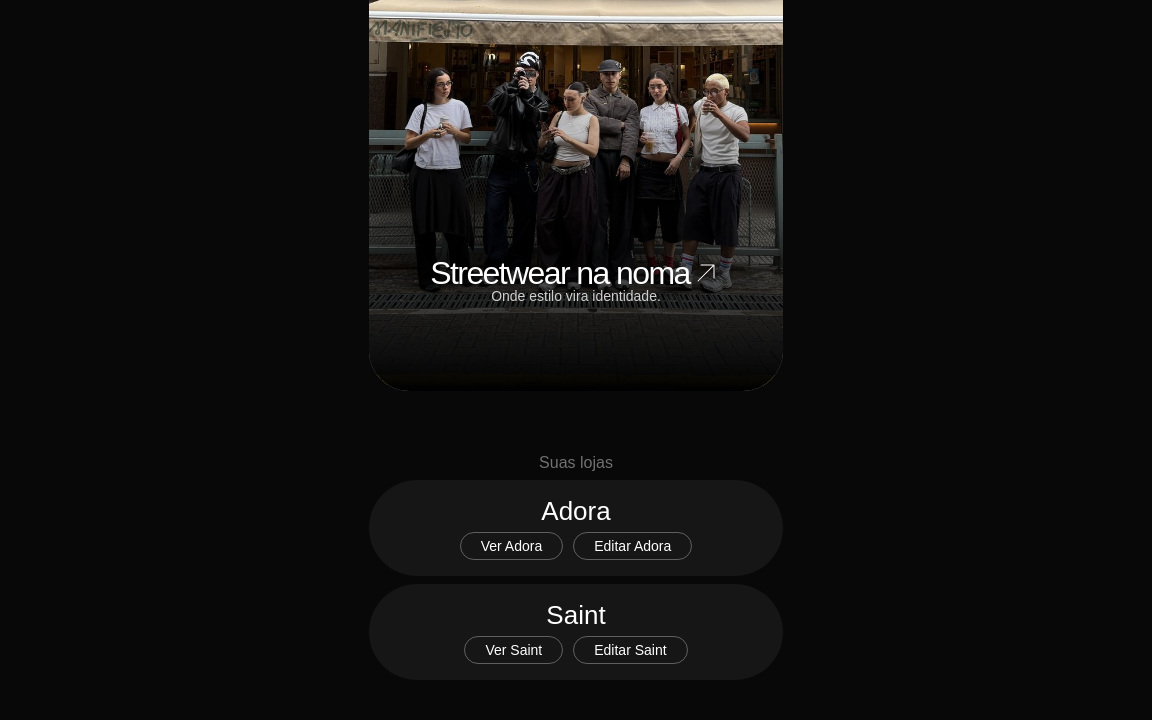
mostra os cards do usuário e abre a loja pelo slug
The image size is (1152, 720).
(page scrolled)
expect the number of headings with class "titulo-lojas-usuario" is 1: met, box [539,454,613,471]
Click the link "Ver Adora" at (511, 546), box [460,532,563,560]
(page scrolled)
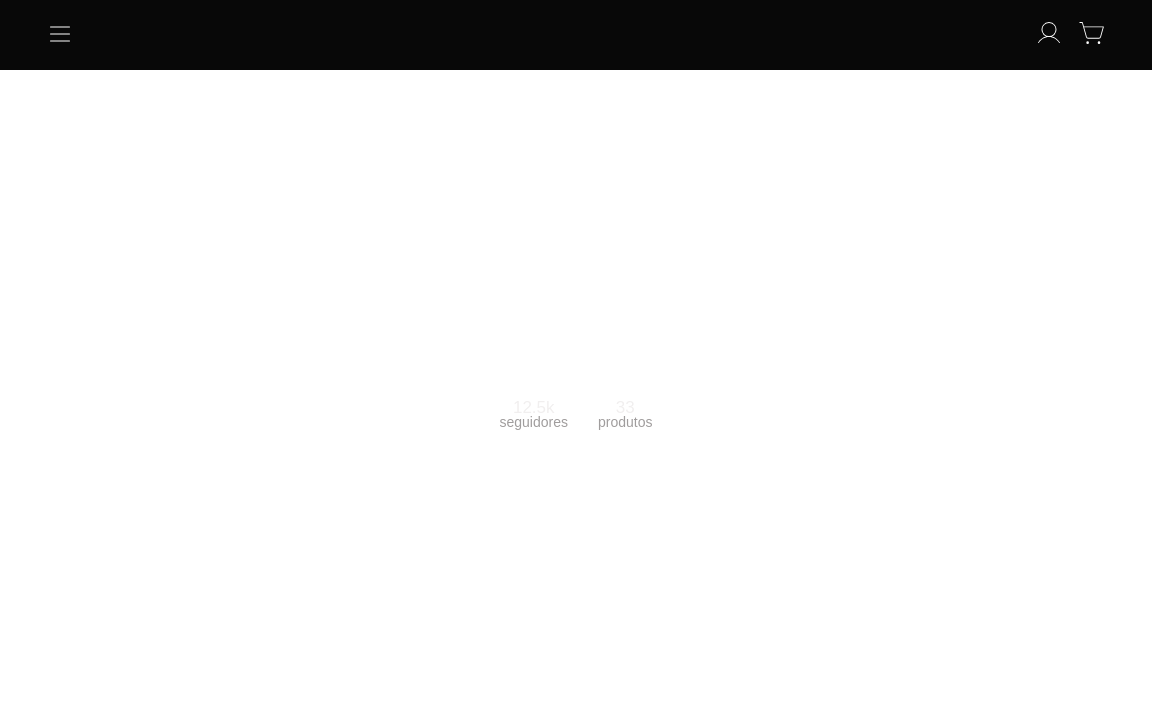
expect the element with class "hero-loja-capa" is shown: met, box [500,361,652,430]
